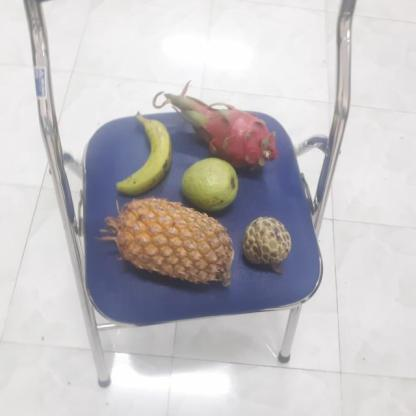annona: (240, 217, 291, 269)
banana: (115, 117, 173, 196)
guava: (177, 158, 241, 213)
pineapple: (104, 197, 232, 289)
pitaya: (176, 105, 273, 171)
